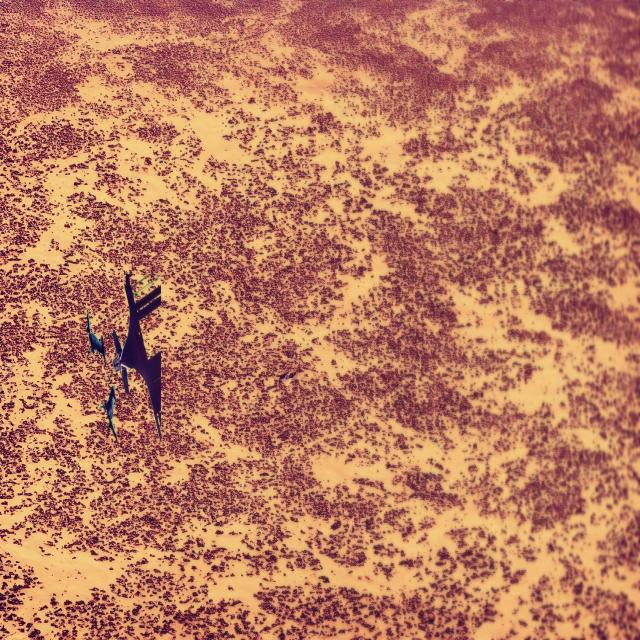airplane: (111, 271, 162, 442), (85, 310, 107, 367), (100, 385, 118, 444)
